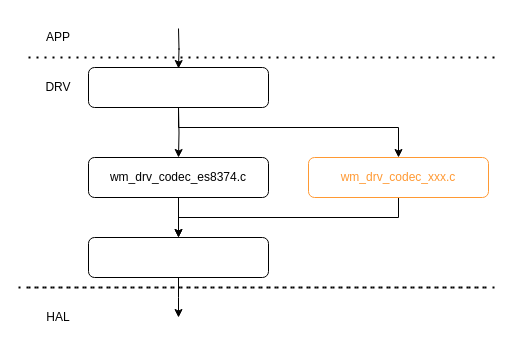
This 517x354 diagram has some shape labels left out. The centre of each missing label's shape, as x and y in pixels:
wm_drv_codec_i2s: (178,87)
wm_drv_i2c: (178,257)
